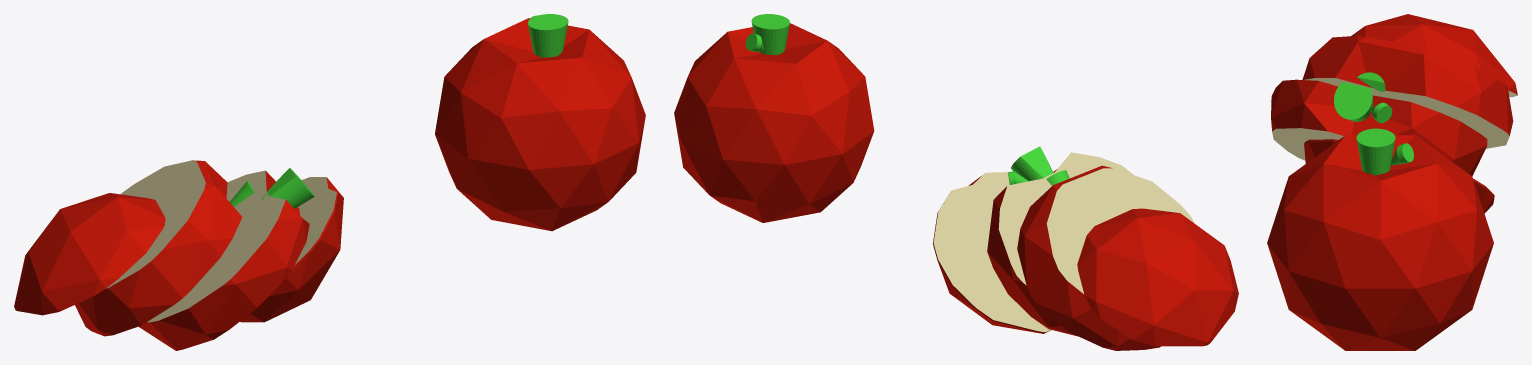
The model's file is tomatecORTADO.fbx.
3 renders of one model, left to right at view 1: azimuth 30°, elevation 25°; view 2: azimuth 150°, elevation 25°; view 3: azimuth 270°, elevation 25°, orthographic. The views are drawn at different scales.
Parts seen in each view (by area): view 1: Cylinder, Cylinder.003, Cylinder.001, Cylinder.002, Cylinder.004; view 2: Cylinder, Cylinder.002, Cylinder.003, Cylinder.004, Cylinder.001; view 3: Cylinder, Cylinder.003, Cylinder.001, Cylinder.002, Cylinder.004.
Boxes of the visible parts, x1,y1,x2,y2 form: Cylinder: [435, 14, 645, 231]; Cylinder.003: [75, 160, 254, 336]; Cylinder.001: [138, 168, 314, 350]; Cylinder.002: [14, 193, 165, 315]; Cylinder.004: [240, 177, 343, 322]; Cylinder: [674, 14, 874, 222]; Cylinder.002: [1077, 208, 1238, 346]; Cylinder.003: [1017, 165, 1194, 350]; Cylinder.004: [933, 172, 1050, 333]; Cylinder.001: [987, 146, 1133, 336]; Cylinder: [1267, 128, 1493, 350]; Cylinder.003: [1302, 36, 1513, 148]; Cylinder.001: [1271, 79, 1487, 176]; Cylinder.002: [1351, 14, 1517, 97]; Cylinder.004: [1304, 139, 1494, 213].
Bounding box in the file's own units: 135 × 52.22 × 48.
